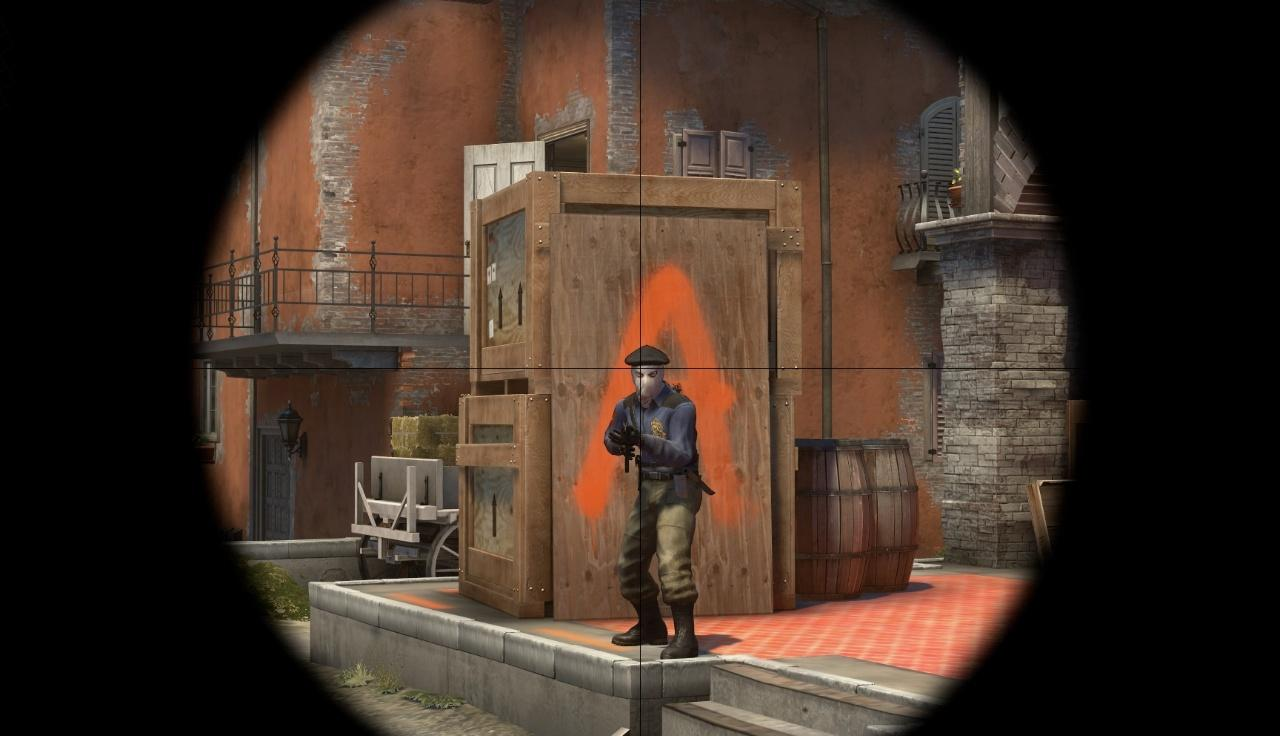tt: (621, 345, 695, 659)
tthead: (632, 347, 665, 396)
